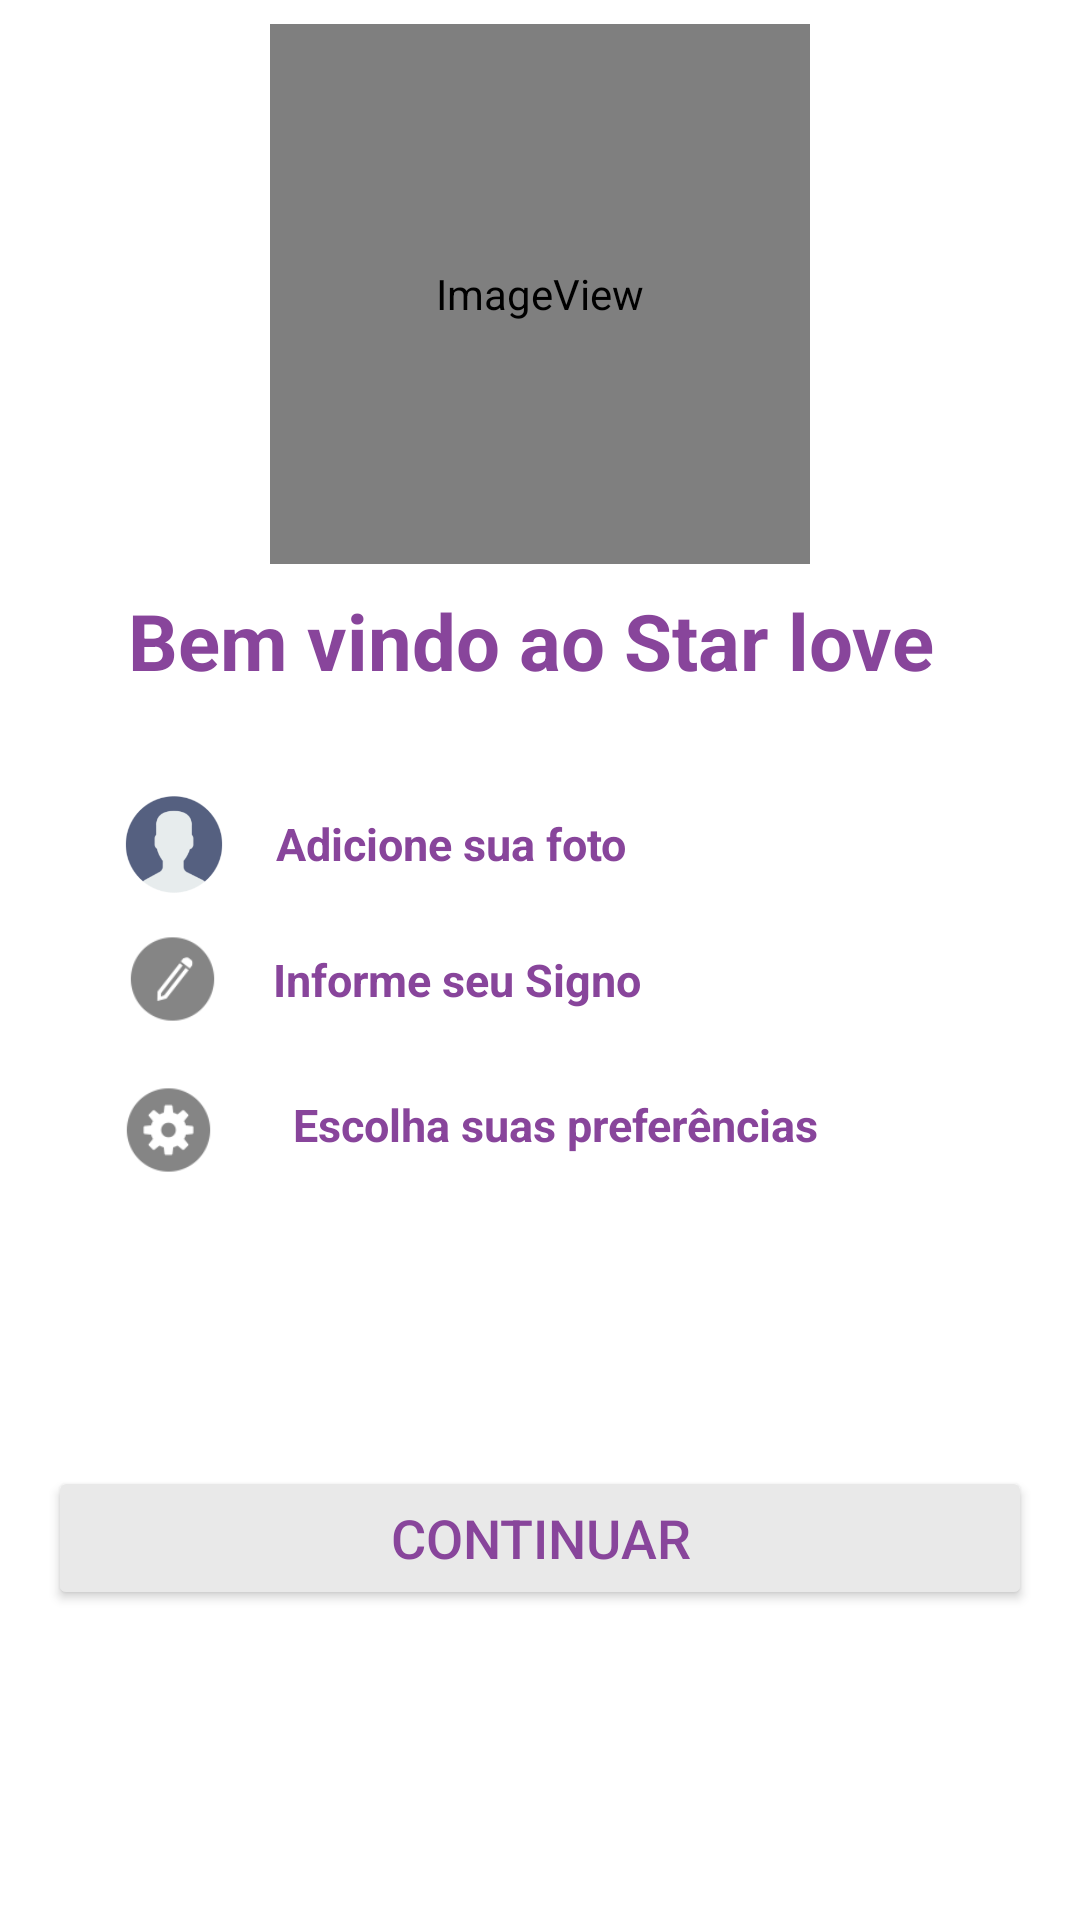

Icons on this 1080×1920 Android screen, each with its box as (x1, y1, x2, y2):
edit: (131, 937, 214, 1021)
settings: (127, 1088, 210, 1172)
user: (126, 796, 222, 882)
